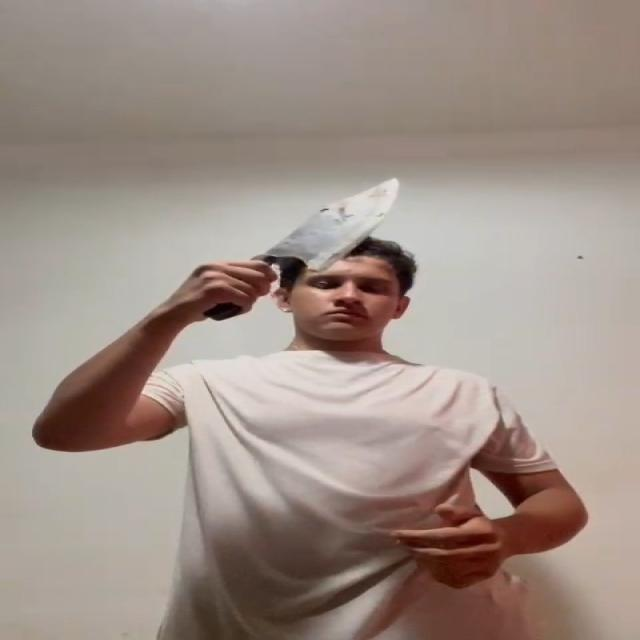knife: (263, 177, 402, 265)
